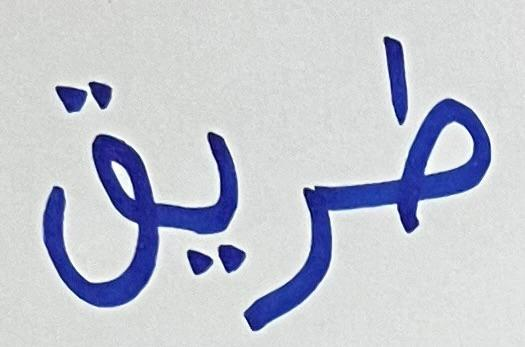qaf: (40, 75, 165, 320)
reh: (271, 159, 346, 318)
tah: (349, 15, 496, 230)
yeh: (167, 112, 256, 281)
